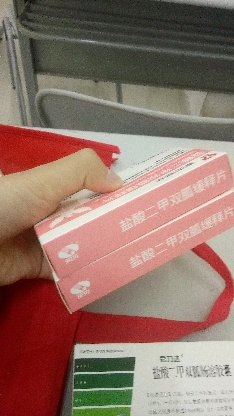pillbox: (40, 148, 232, 273), (57, 196, 227, 315)
